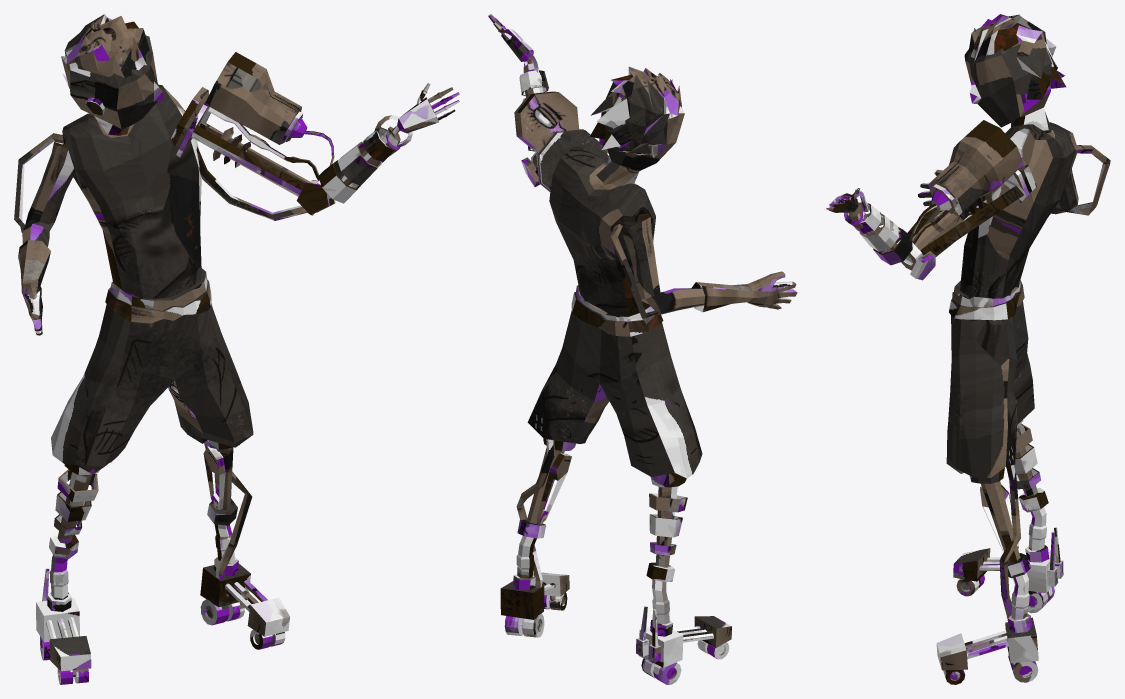
File: CyborgFINALAnimation_000034.obj
3 renders of one model, left to right at view 1: azimuth 30°, elevation 25°; view 2: azimuth 150°, elevation 25°; view 3: azimuth 270°, elevation 25°, orthographic. The views are drawn at different scales.
Visible parts, largest first — view 1: CyborgMesh_Cube.002; view 2: CyborgMesh_Cube.002; view 3: CyborgMesh_Cube.002.
Part boxes in pixels (left/top/right/bottom): CyborgMesh_Cube.002: left=14, top=14, right=459, bottom=684; CyborgMesh_Cube.002: left=488, top=14, right=797, bottom=684; CyborgMesh_Cube.002: left=826, top=14, right=1110, bottom=684.
Bounding box in the file's own units: 5.89 × 9.53 × 4.04.
